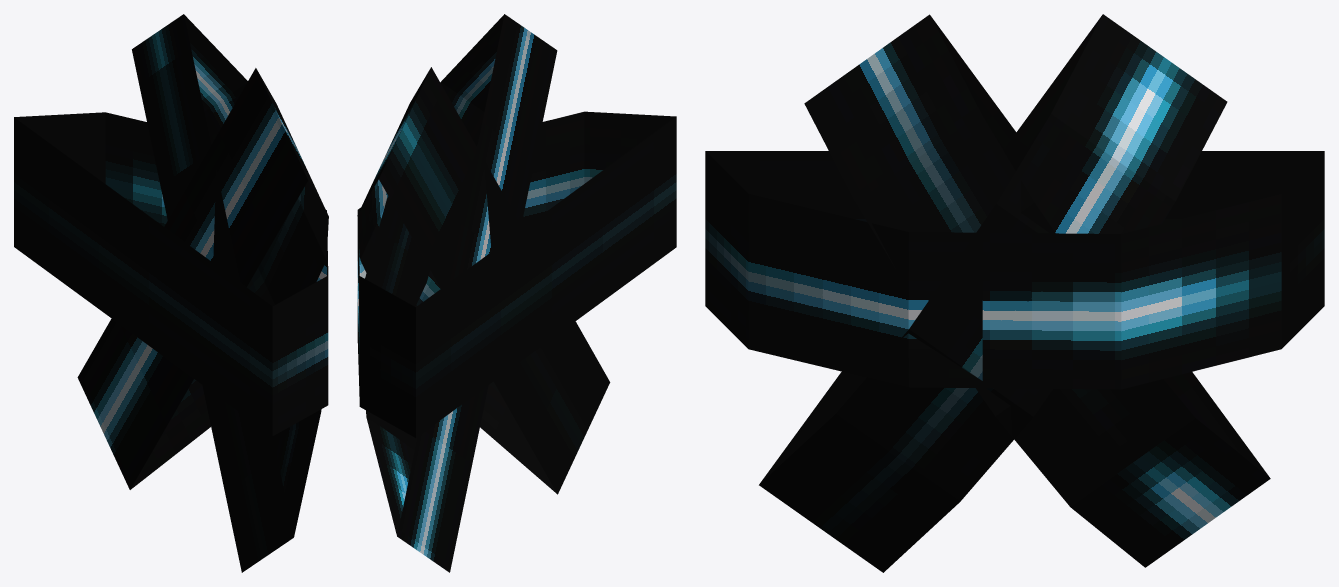
3 views of the same model, side by side, from view 1: azimuth 30°, elevation 25°; view 2: azimuth 150°, elevation 25°; view 3: azimuth 270°, elevation 25° (orthographic). The views are drawn at different scales.
Parts seen in each view (by area): view 1: FX; view 2: FX; view 3: FX.
Boxes of the visible parts, box(x1,y1,x2,y2) form: FX: box(14, 14, 328, 572); FX: box(357, 14, 676, 572); FX: box(705, 14, 1324, 572).
Size of the model in its own units: 9.63 by 31.22 by 30.28.
Materials: 1 (1 with a texture image).
